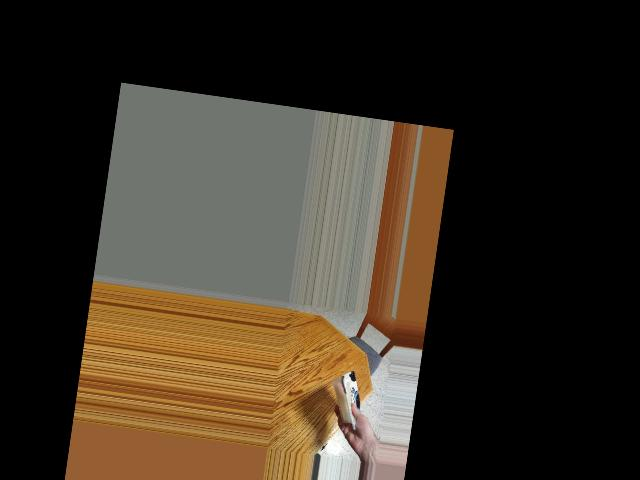cheese: (325, 370, 374, 426)
